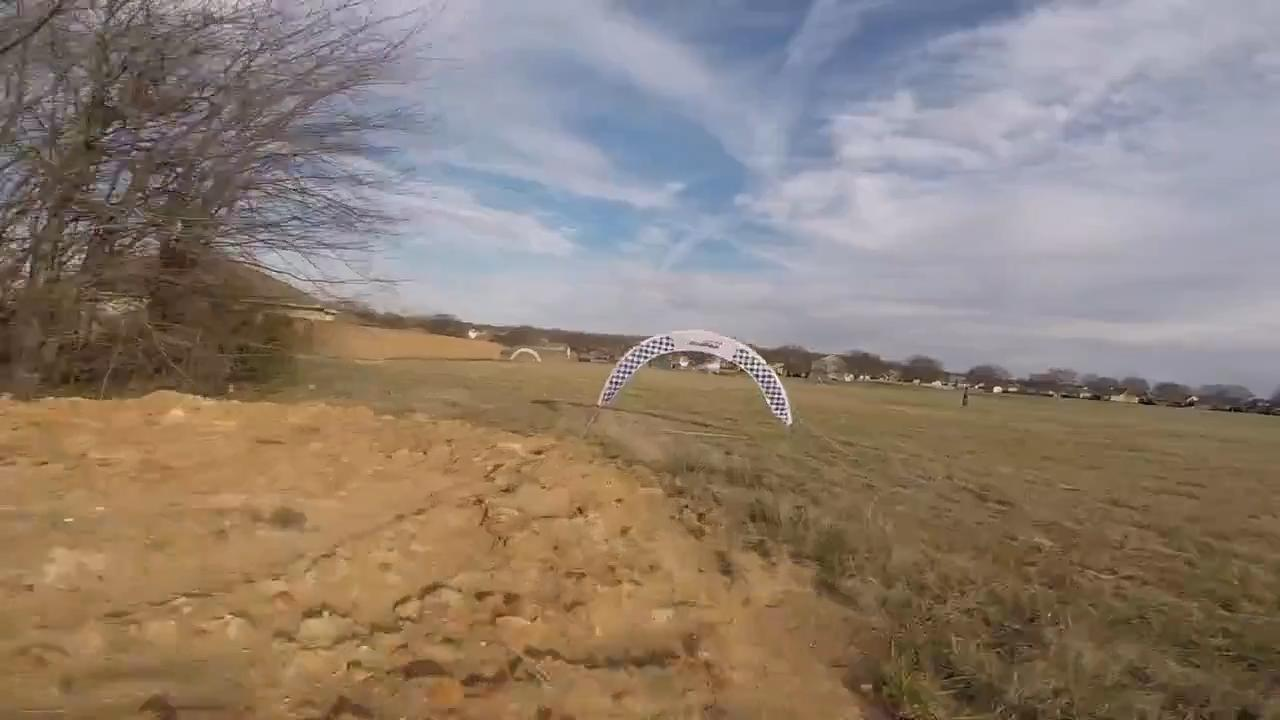gate: (597, 329, 797, 429)
